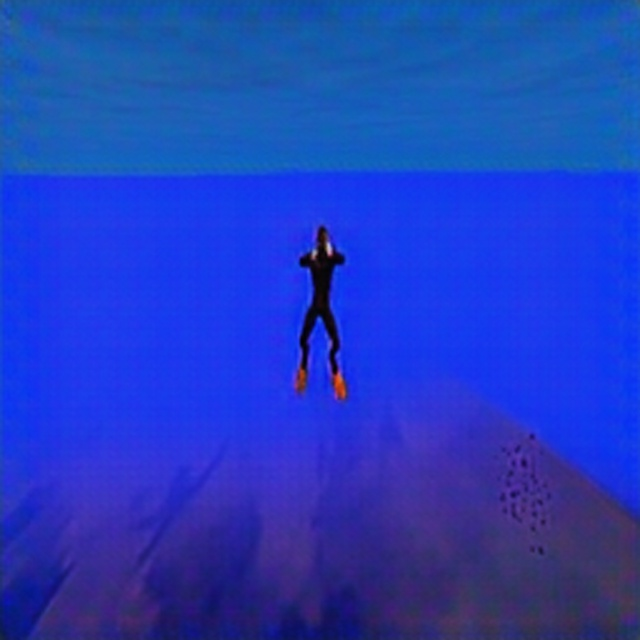diver: (292, 221, 349, 401)
